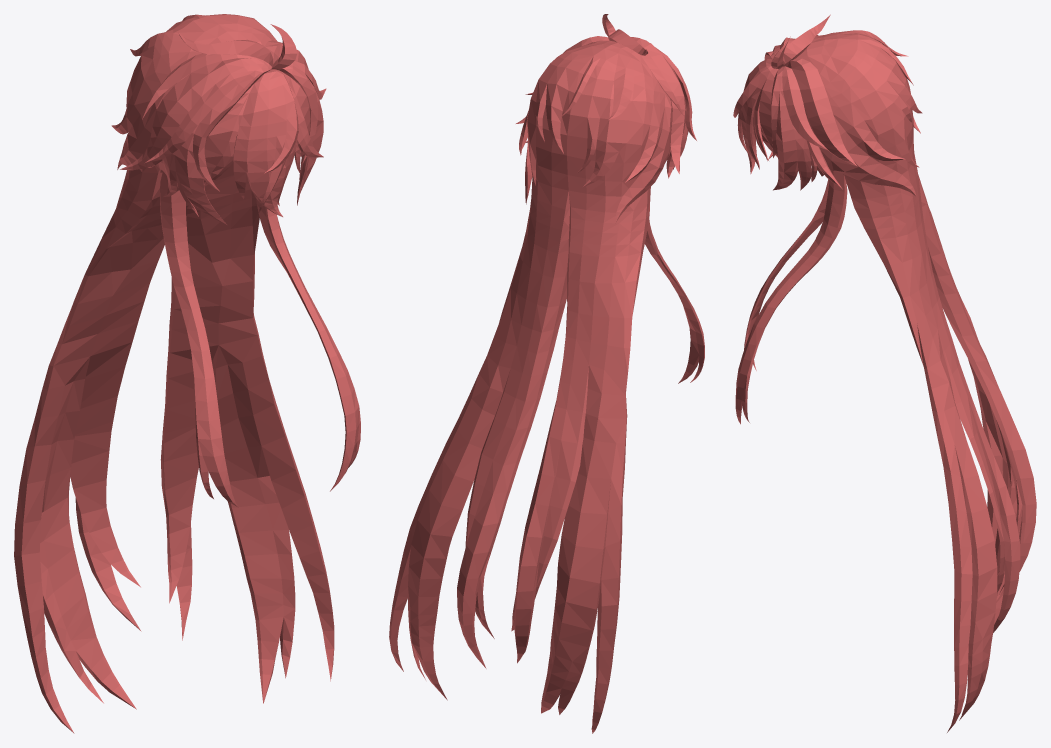
The model's file is HairOutline.fbx.
3 views of the same model, side by side, from view 1: azimuth 30°, elevation 25°; view 2: azimuth 150°, elevation 25°; view 3: azimuth 270°, elevation 25° (orthographic). The views are drawn at different scales.
Visible parts, largest first — view 1: HairOutline; view 2: HairOutline; view 3: HairOutline.
Boxes of the visible parts, x1=… form: HairOutline: x1=14, y1=14, x2=360, y2=733; HairOutline: x1=389, y1=14, x2=704, y2=733; HairOutline: x1=733, y1=14, x2=1036, y2=732.
Size of the model in its own units: 35.28 by 87.84 by 37.28.
